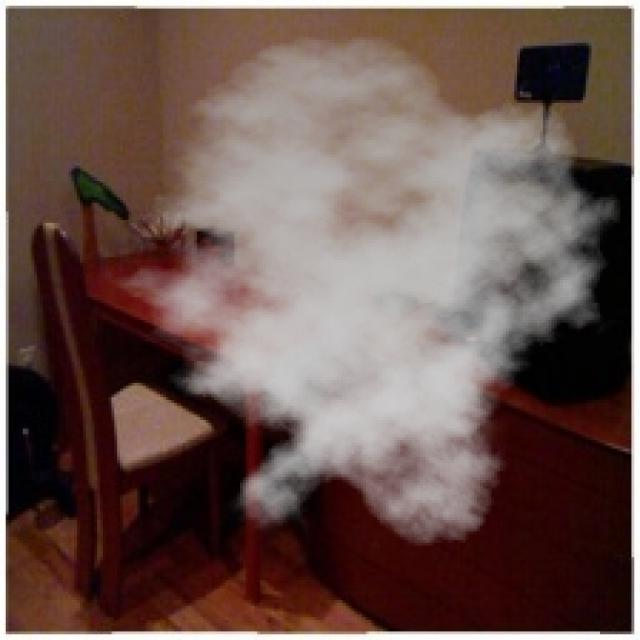Smoke: (91, 34, 634, 549)
